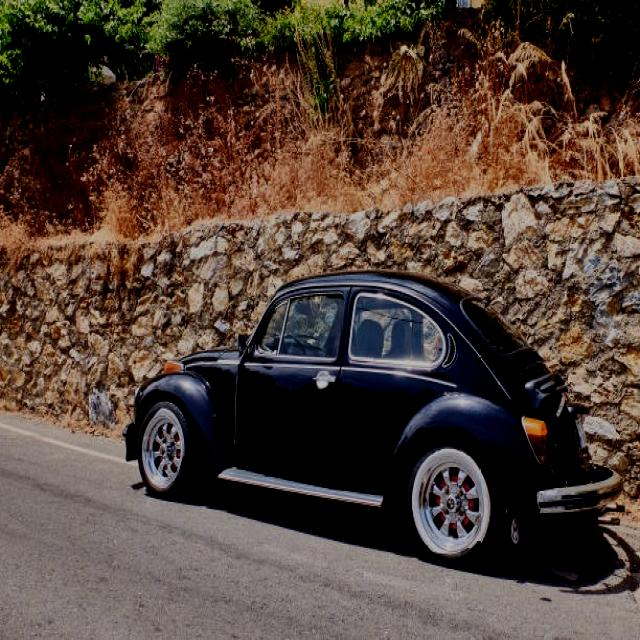car: (136, 270, 616, 554)
